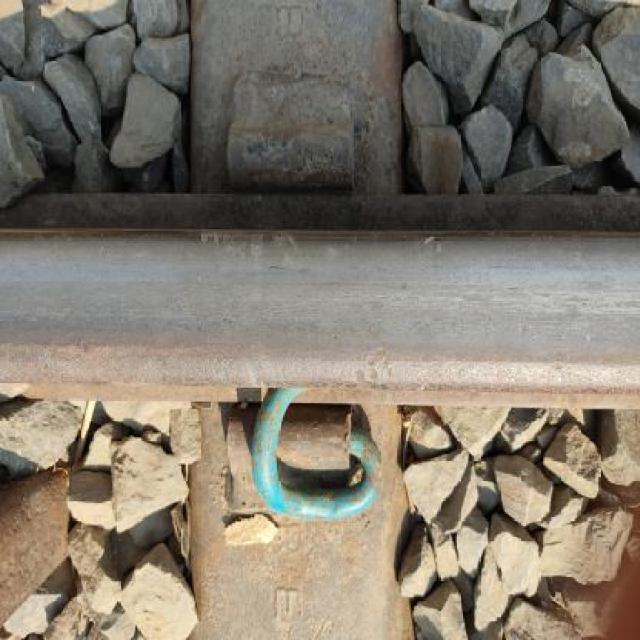non-defective: (0, 188, 640, 462)
